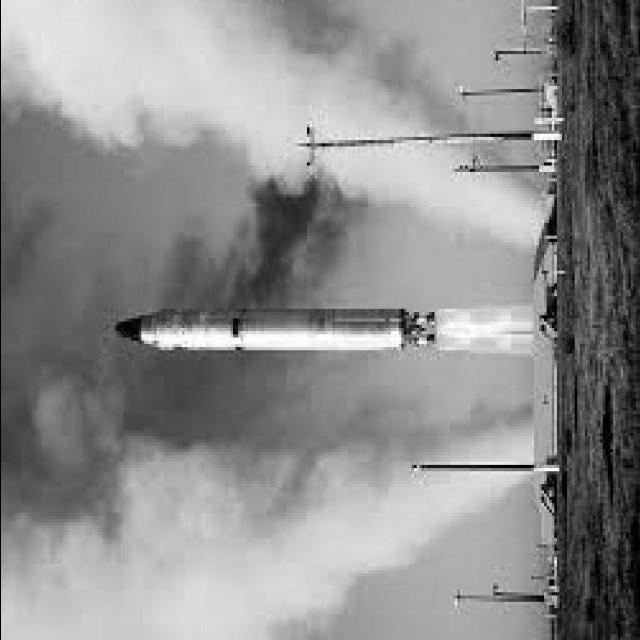Missile: (109, 296, 448, 360)
